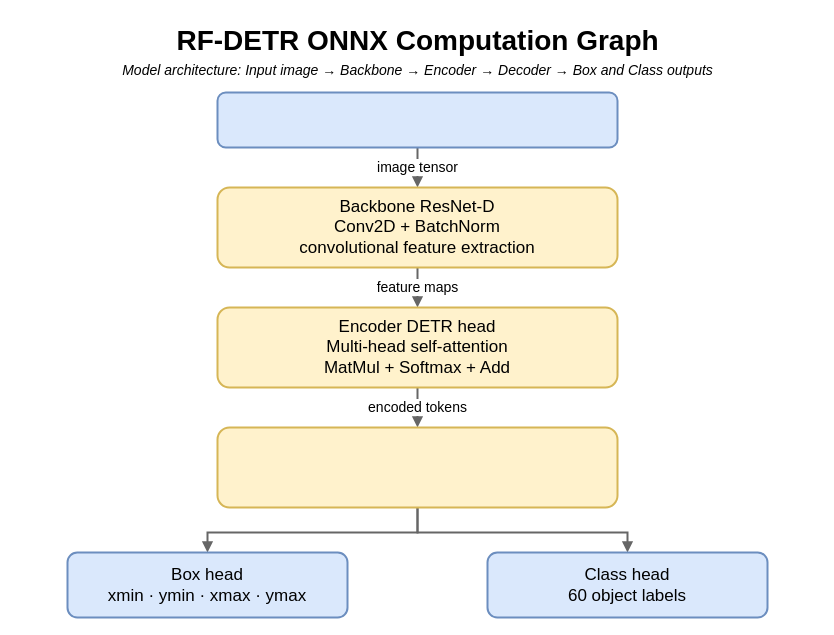
Some shapes in this 834 by 635 pixel diagram are drawn without their labels. Here are the shapes that lost their labels. From the top down, the centre of each, then its label:
At pixel 417 119: "Input image 576×576×3".
At pixel 417 467: "Decoder Cross-attention over object queries".
